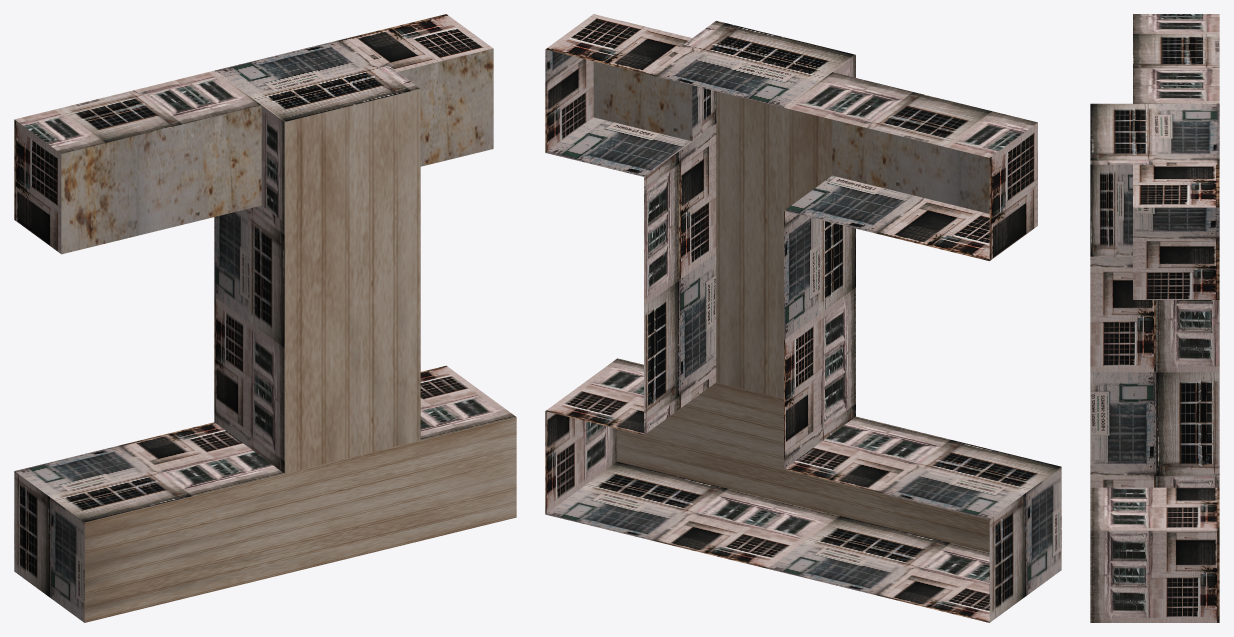
File: urbaniron01a_wtf.obj
3 views of the same model, side by side, from view 1: azimuth 30°, elevation 25°; view 2: azimuth 150°, elevation 25°; view 3: azimuth 270°, elevation 25° (orthographic). The views are drawn at different scales.
Visible parts, largest first — view 1: group4, group3, group5; view 2: group3, group4, group5; view 3: group3.
Part boxes in pixels (box(x1,y1,x2,y2)): group4: box(84, 89, 516, 622); group3: box(14, 14, 515, 622); group5: box(61, 48, 493, 254); group3: box(545, 14, 1061, 622); group4: box(617, 91, 989, 552); group5: box(593, 61, 989, 213); group3: box(1090, 14, 1219, 622).
Bounding box in the file's own units: 660 × 660 × 186.
